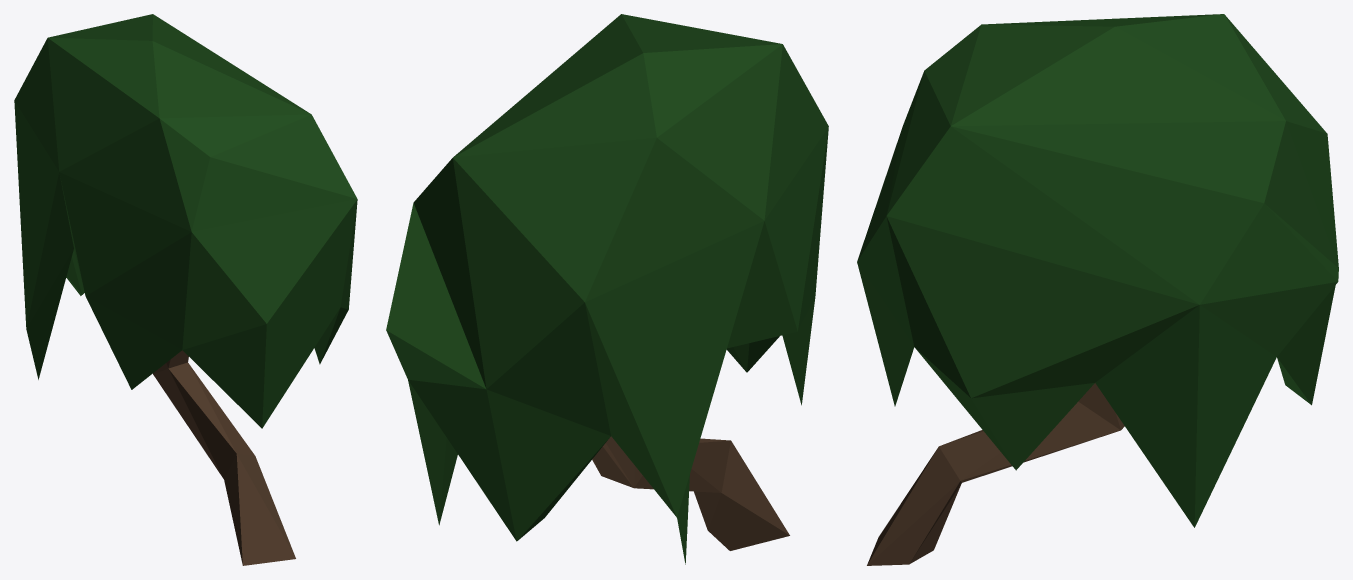
The model's file is tree_c_lod1.glb.
The picture shows the model from 3 angles, left to right: view 1: azimuth 30°, elevation 25°; view 2: azimuth 150°, elevation 25°; view 3: azimuth 270°, elevation 25°; orthographic projection. The views are drawn at different scales.
Parts seen in each view (by area): view 1: tree_c_lod1; view 2: tree_c_lod1; view 3: tree_c_lod1.
Part boxes in pixels (x1=…): tree_c_lod1: x1=14, y1=14, x2=357, y2=565; tree_c_lod1: x1=386, y1=14, x2=828, y2=564; tree_c_lod1: x1=857, y1=14, x2=1338, y2=565.
Size of the model in its own units: 1.3 by 2.34 by 1.97.
